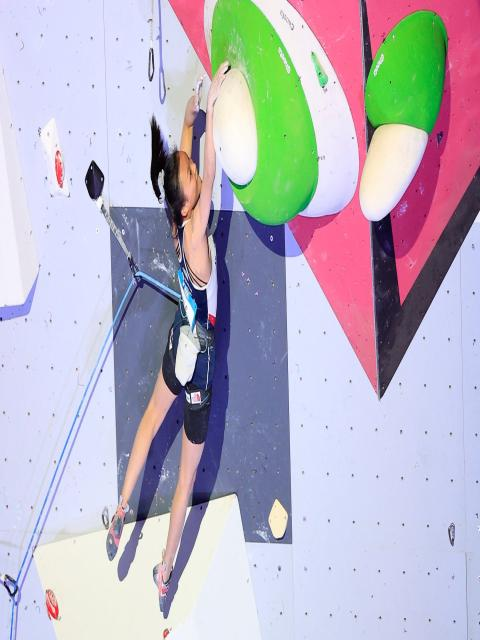sloper: (359, 124, 428, 221), (213, 67, 258, 185)
